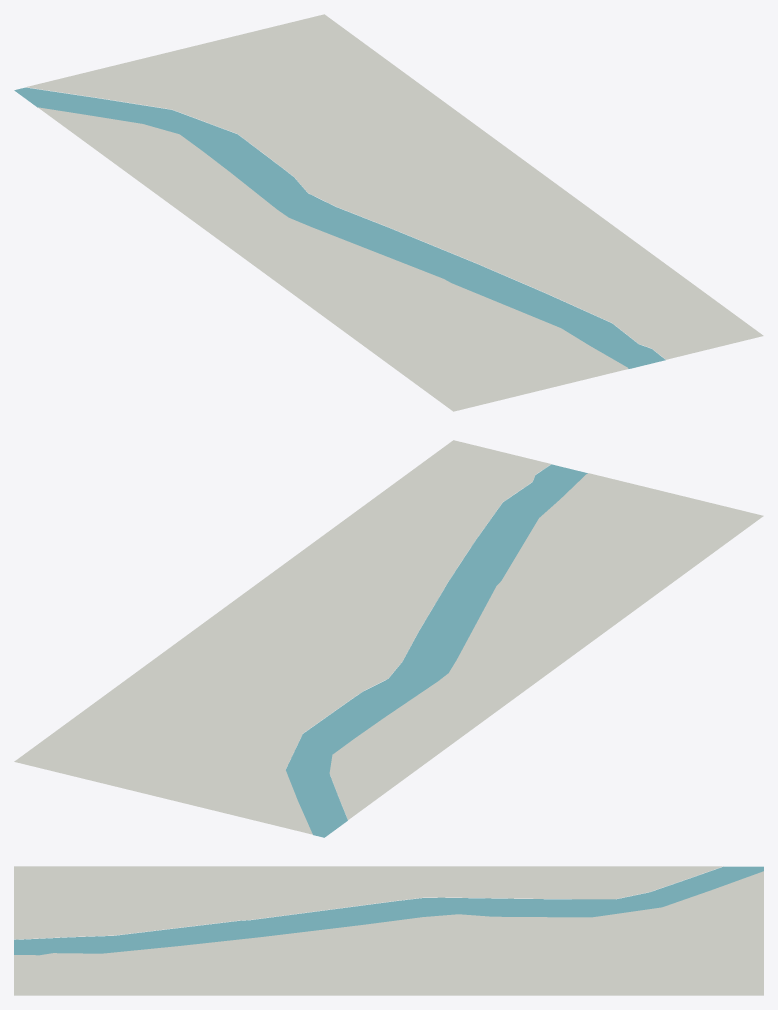
3 views of the same model, one above another, from view 1: azimuth 30°, elevation 25°; view 2: azimuth 150°, elevation 25°; view 3: azimuth 270°, elevation 25° (orthographic). The views are drawn at different scales.
Visible parts, largest first — view 1: city; view 2: city; view 3: city.
Boxes of the visible parts, x1,y1,x2,y2 form: city: (14,14,763,411); city: (14,440,763,837); city: (14,866,763,995).
Size of the model in its own units: 204 by 0.18 by 500.
